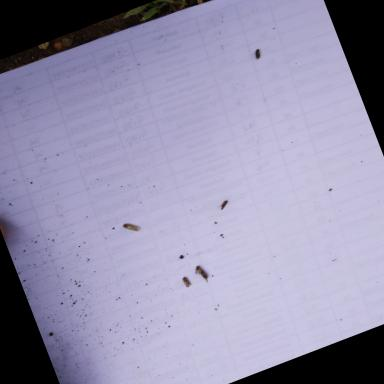pbw: (192, 264, 210, 286), (122, 219, 140, 236), (182, 276, 192, 289), (218, 200, 230, 210)
